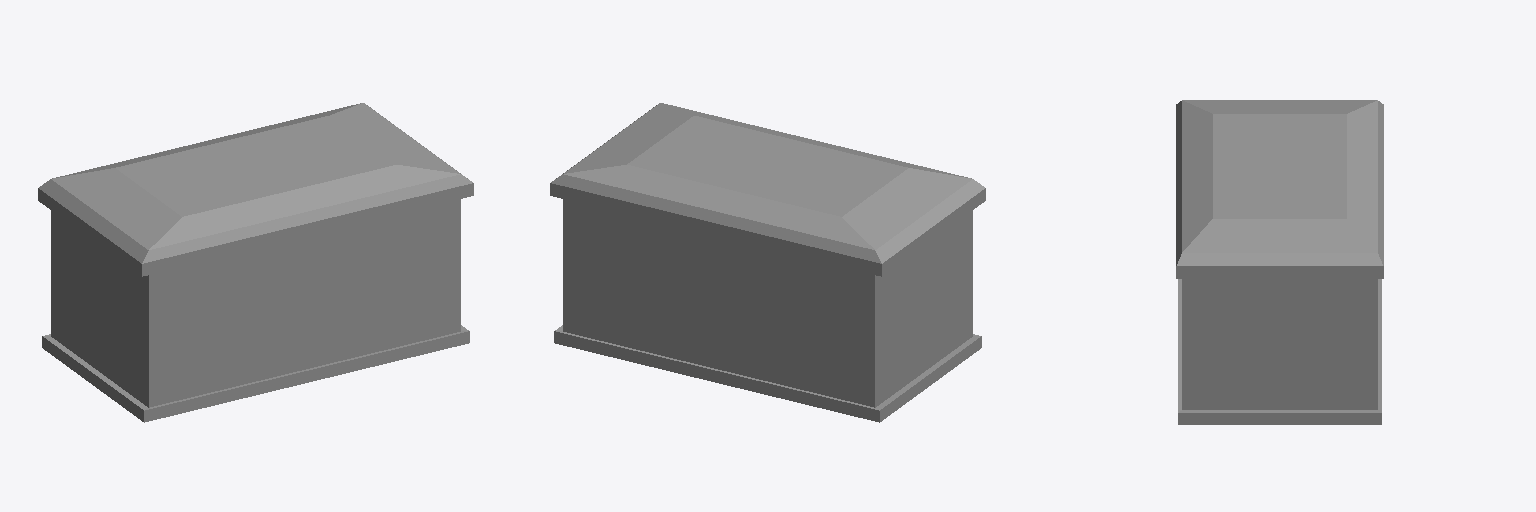
File: Tank_w_Sand.obj
3 views of the same model, side by side, from view 1: azimuth 30°, elevation 25°; view 2: azimuth 150°, elevation 25°; view 3: azimuth 270°, elevation 25° (orthographic).
Visible parts, largest first — view 1: Cube; view 2: Cube; view 3: Cube.
Part boxes in pixels (left/top/right/bottom): Cube: left=38, top=103, right=473, bottom=422; Cube: left=550, top=103, right=985, bottom=422; Cube: left=1176, top=100, right=1383, bottom=424.
Bounding box in the file's own units: 4.8 × 2.49 × 2.6.